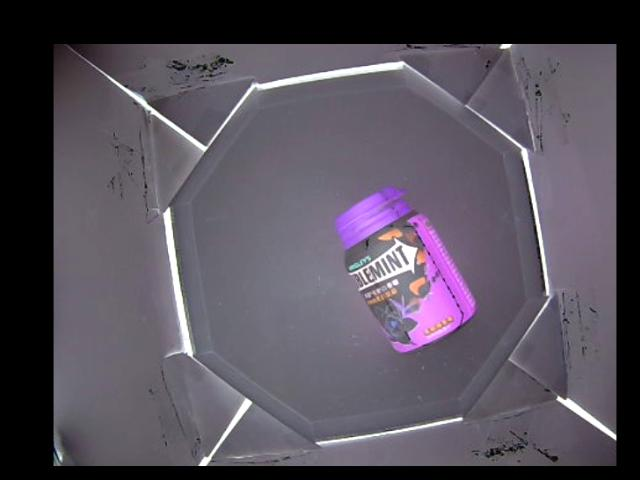Bottle: (335, 185, 475, 355)
